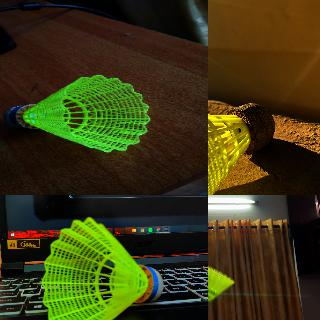shuttlecock: (42, 217, 163, 319), (4, 75, 149, 153), (208, 103, 275, 194), (208, 264, 234, 310)
